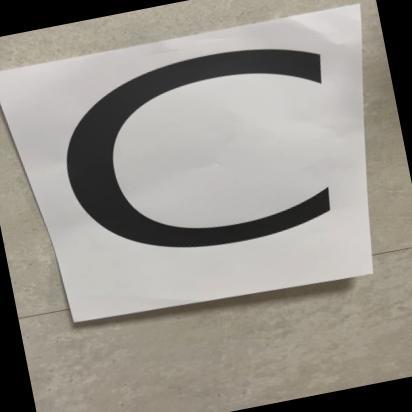seat: (14, 13, 376, 332)
